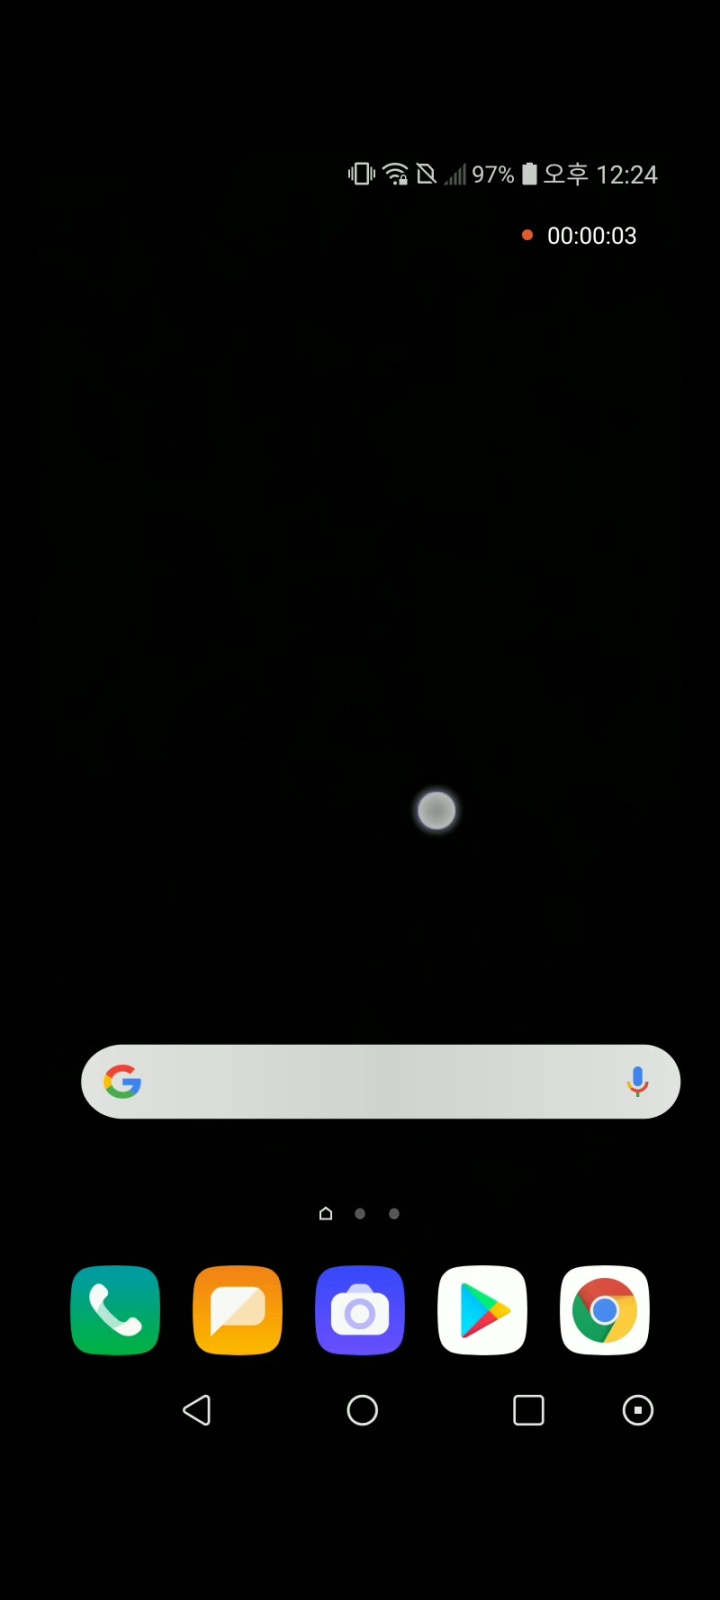Cursor: (413, 788, 458, 833)
